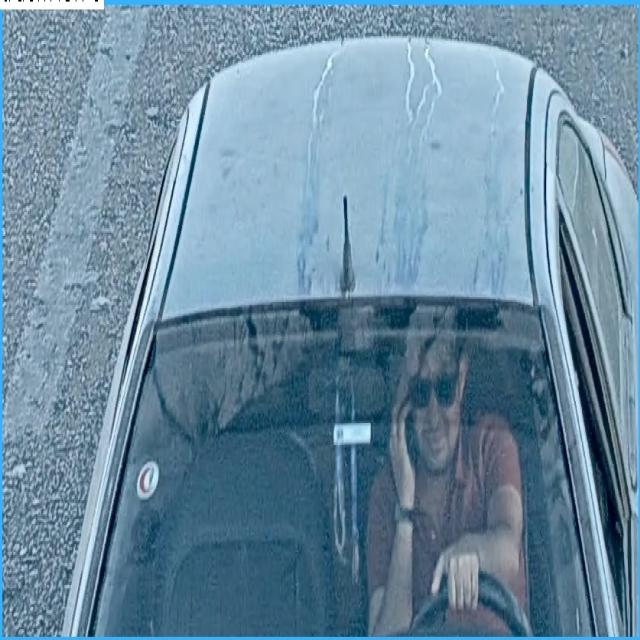windshield: (79, 310, 571, 640)
